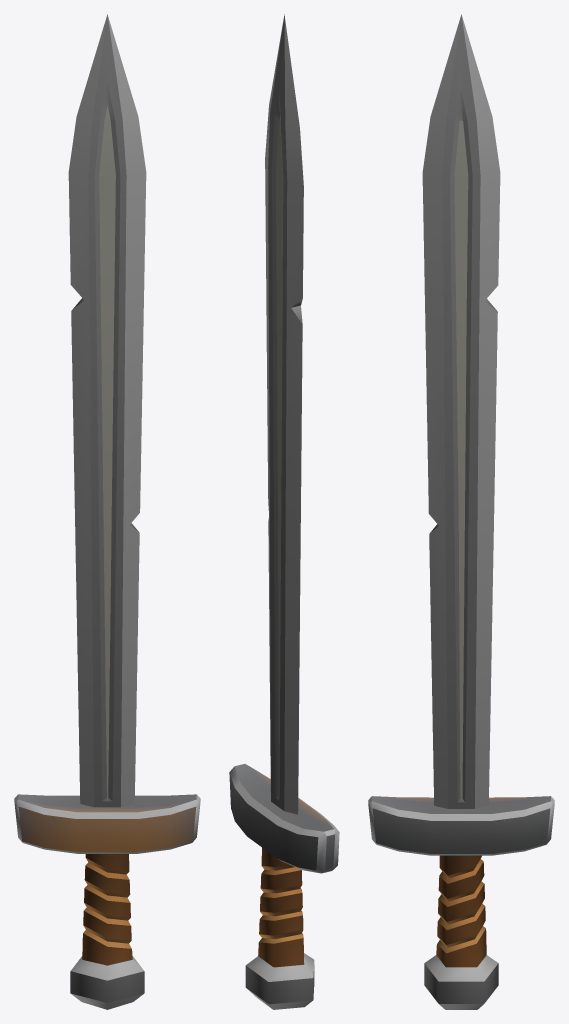
File: Sword_1_A.glb
3 views of the same model, side by side, from view 1: azimuth 90°, elevation 25°; view 2: azimuth 210°, elevation 25°; view 3: azimuth 270°, elevation 25° (orthographic).
Visible parts, largest first — view 1: Sword_1_A; view 2: Sword_1_A; view 3: Sword_1_A.
Boxes of the visible parts, box(x1,y1,x2,y2) form: Sword_1_A: box(14, 14, 200, 1009); Sword_1_A: box(229, 14, 339, 1009); Sword_1_A: box(368, 14, 554, 1009).
Bounding box in the file's own units: 0.0843 × 1.39 × 0.2376.
2 materials, 2 textured.
